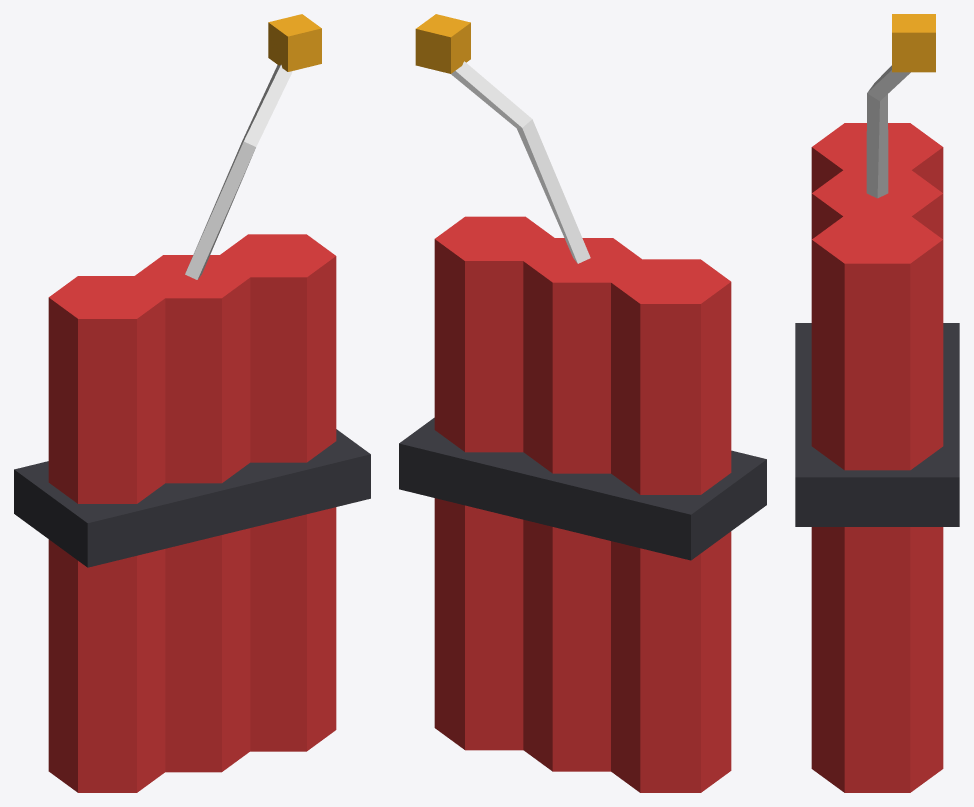
Rendered from Dynamite.fbx.
The picture shows the model from 3 angles, left to right: view 1: azimuth 30°, elevation 25°; view 2: azimuth 150°, elevation 25°; view 3: azimuth 270°, elevation 25°; orthographic projection. The views are drawn at different scales.
Visible parts, largest first — view 1: Dynamite; view 2: Dynamite; view 3: Dynamite.
Boxes of the visible parts, left/top/right/bottom form: Dynamite: left=14, top=14, right=370, bottom=792; Dynamite: left=399, top=14, right=766, bottom=792; Dynamite: left=795, top=14, right=959, bottom=792.
Size of the model in its own units: 1 by 2.31 by 0.45.
Materials: 1 (1 with a texture image).
